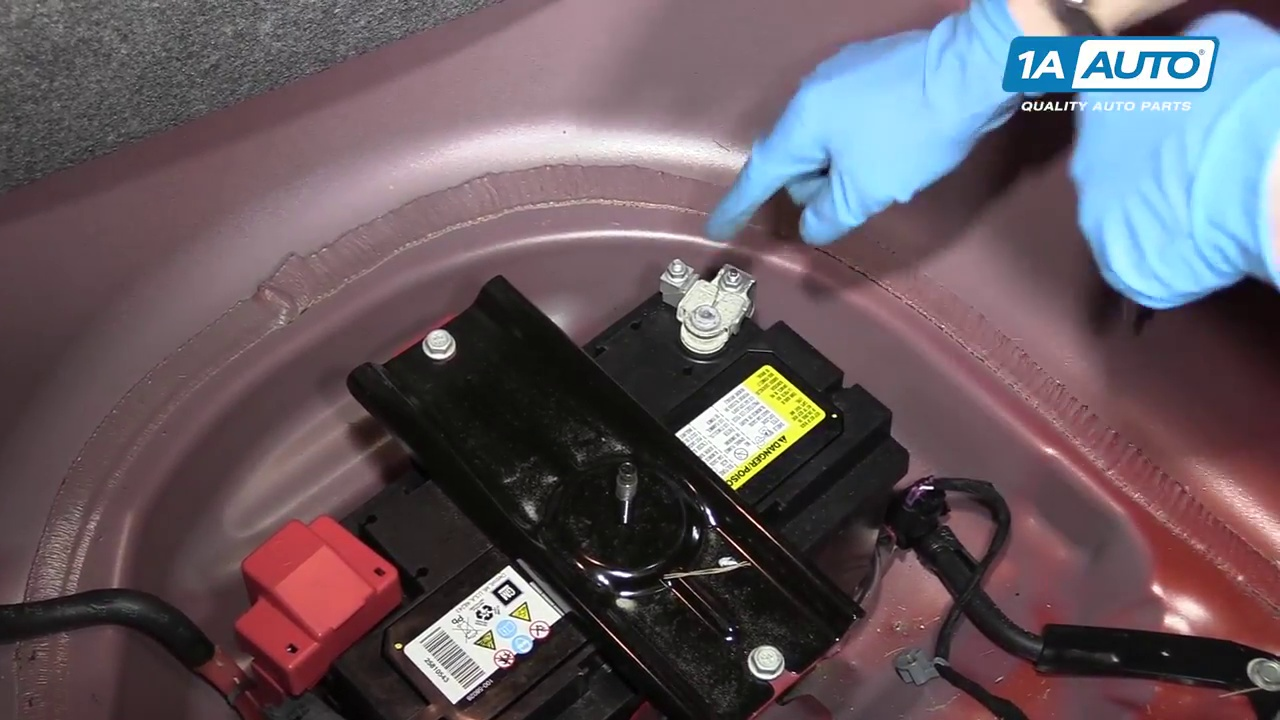battery: (228, 255, 903, 720)
neg_connected: (629, 227, 787, 387)
pos_connected: (177, 477, 437, 700)
